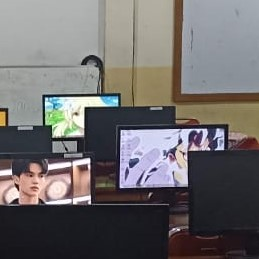monitor: (1, 204, 170, 257), (115, 124, 229, 193), (187, 150, 259, 235), (0, 151, 96, 205), (84, 106, 176, 162), (42, 93, 121, 139)
